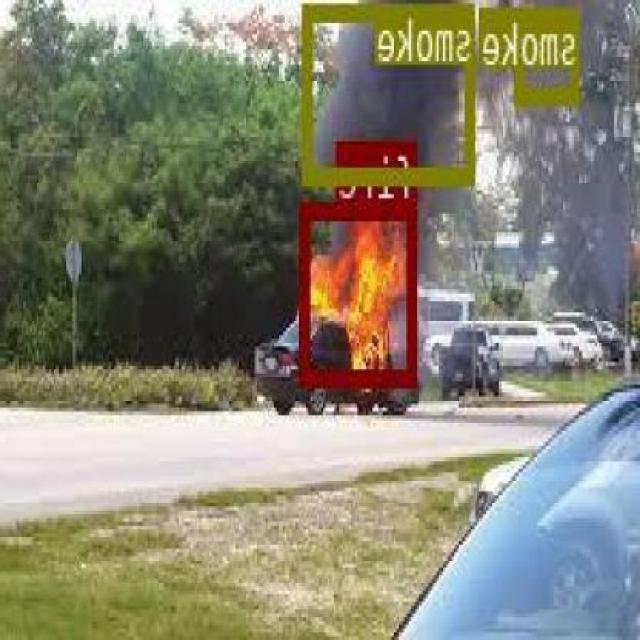Fire: (302, 198, 418, 384)
Smoke: (306, 1, 477, 181)
